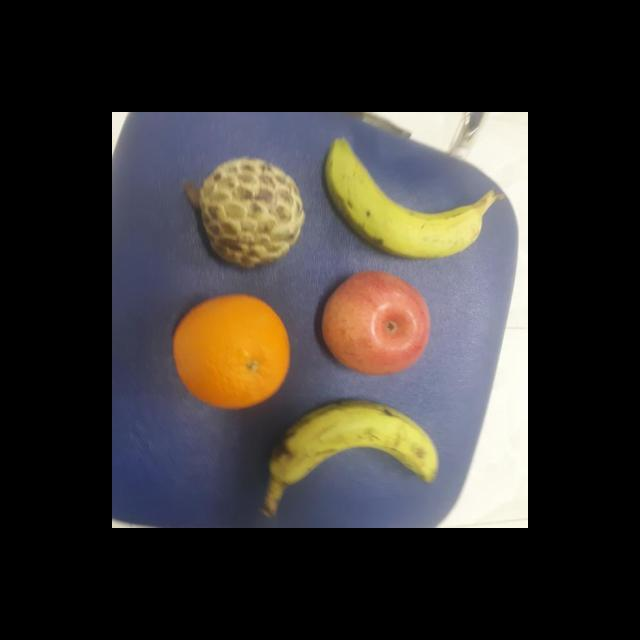Sakya fruit: (195, 155, 306, 268)
apple: (318, 266, 431, 378)
banana: (322, 140, 496, 262), (266, 395, 444, 493)
orange: (171, 293, 293, 410)
